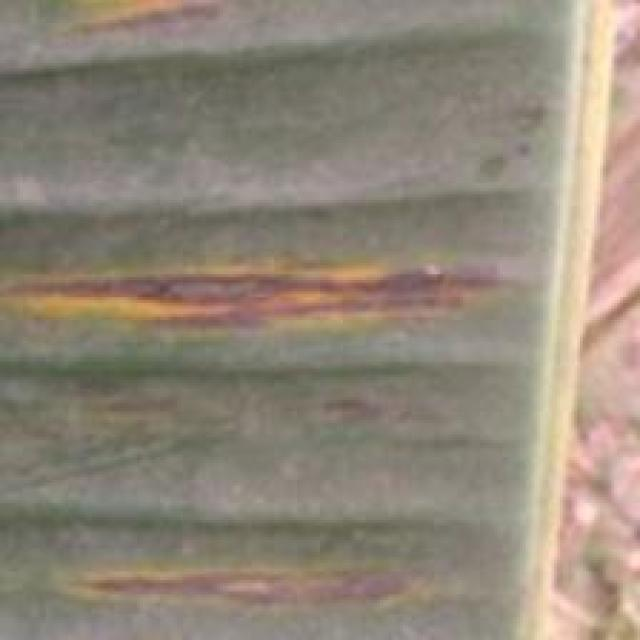Early_leaf_spot: (0, 218, 494, 361), (537, 0, 640, 640), (44, 527, 406, 640), (20, 0, 270, 59), (299, 367, 492, 440)
